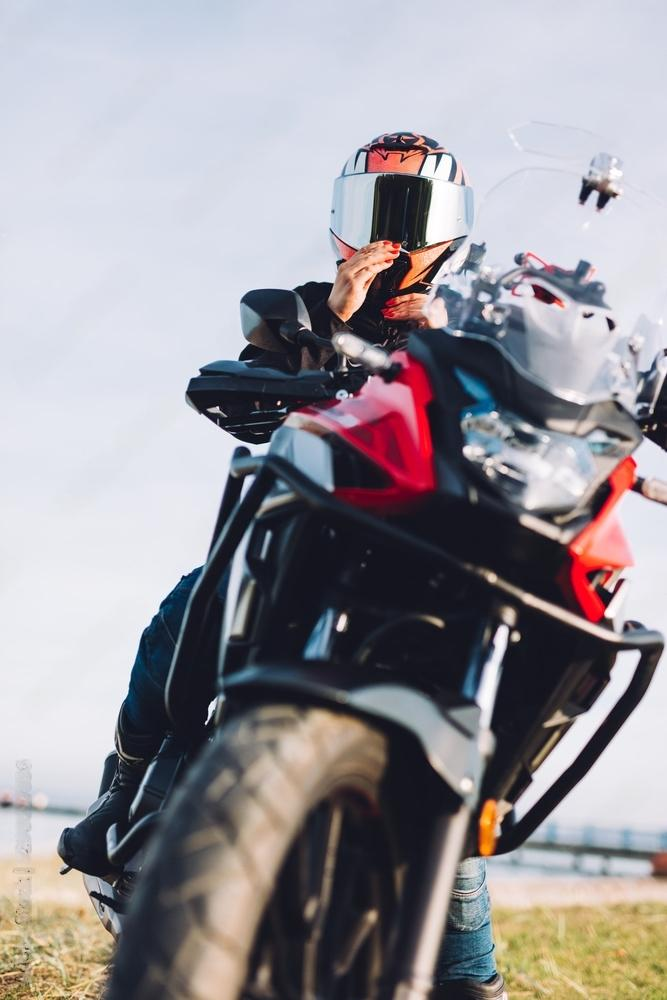helmet: (328, 130, 476, 311)
